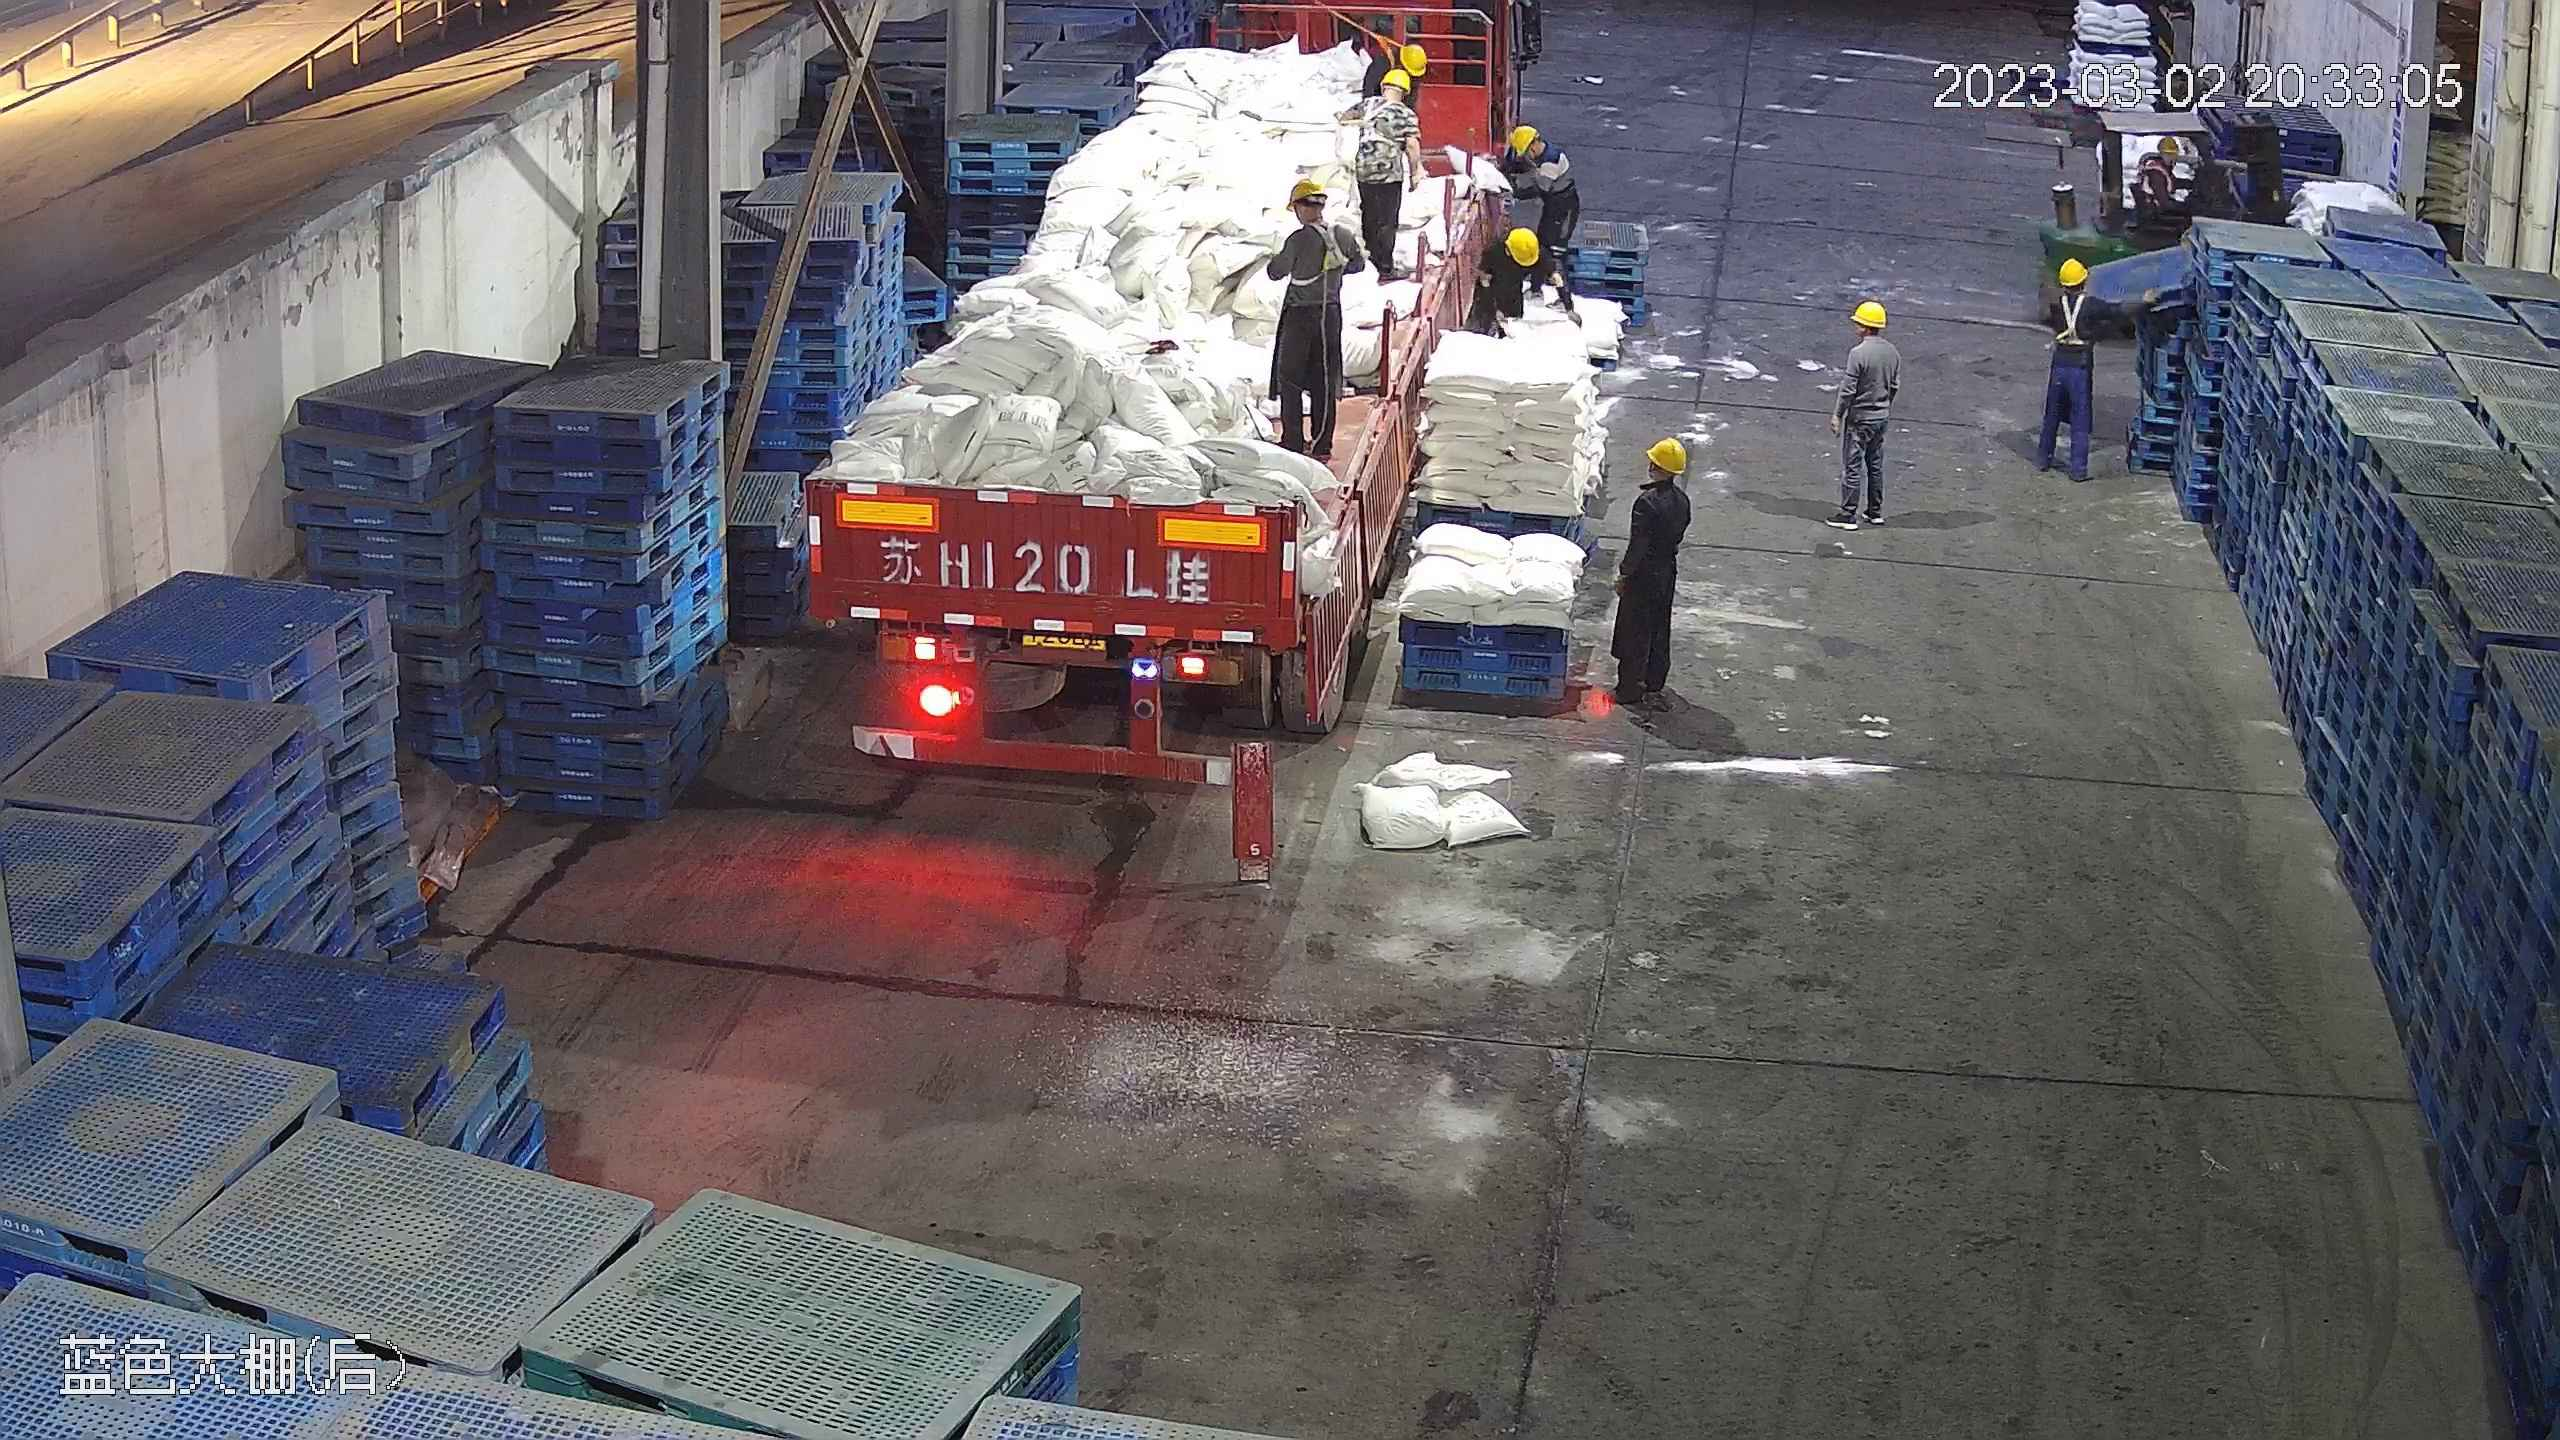belt: (1351, 96, 1410, 154), (2047, 284, 2102, 347), (1292, 217, 1348, 278), (1369, 25, 1402, 67)
head: (1627, 436, 1692, 527), (1281, 173, 1349, 257), (1502, 125, 1577, 195), (1354, 66, 1426, 138), (2047, 256, 2113, 332), (1479, 222, 1539, 298), (1837, 300, 1895, 376), (2137, 138, 2178, 190)
helmet: (1643, 435, 1688, 471), (1503, 222, 1542, 264), (1287, 174, 1329, 204), (1394, 42, 1428, 77), (1507, 125, 1538, 156), (2059, 255, 2090, 283), (1381, 68, 1411, 96), (1849, 300, 1885, 326), (2151, 135, 2183, 158)
people: (1242, 173, 1356, 461), (2035, 257, 2152, 488), (1604, 432, 1695, 710), (1341, 50, 1426, 278), (1823, 292, 1898, 536), (1496, 125, 1587, 318), (1469, 219, 1581, 331)
truck: (803, 17, 1504, 785)
